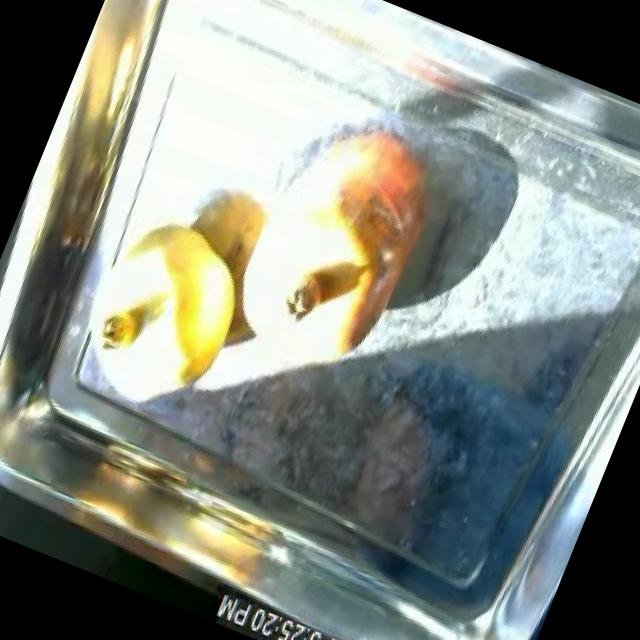fruit: (56, 189, 278, 438), (206, 184, 423, 398)
